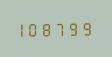eight: (44, 20, 56, 36)
nine: (70, 19, 82, 36), (83, 19, 95, 36)
one: (17, 20, 29, 37)
seven: (57, 19, 69, 36)
zero: (30, 20, 42, 37)
